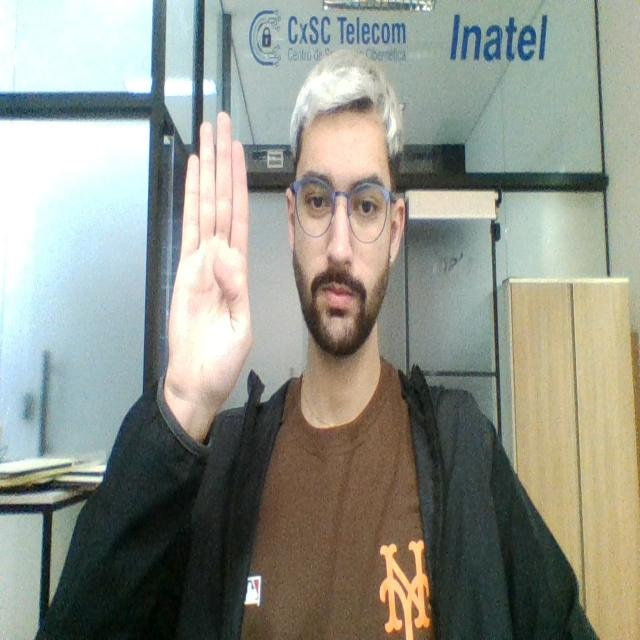B: (166, 112, 257, 405)
